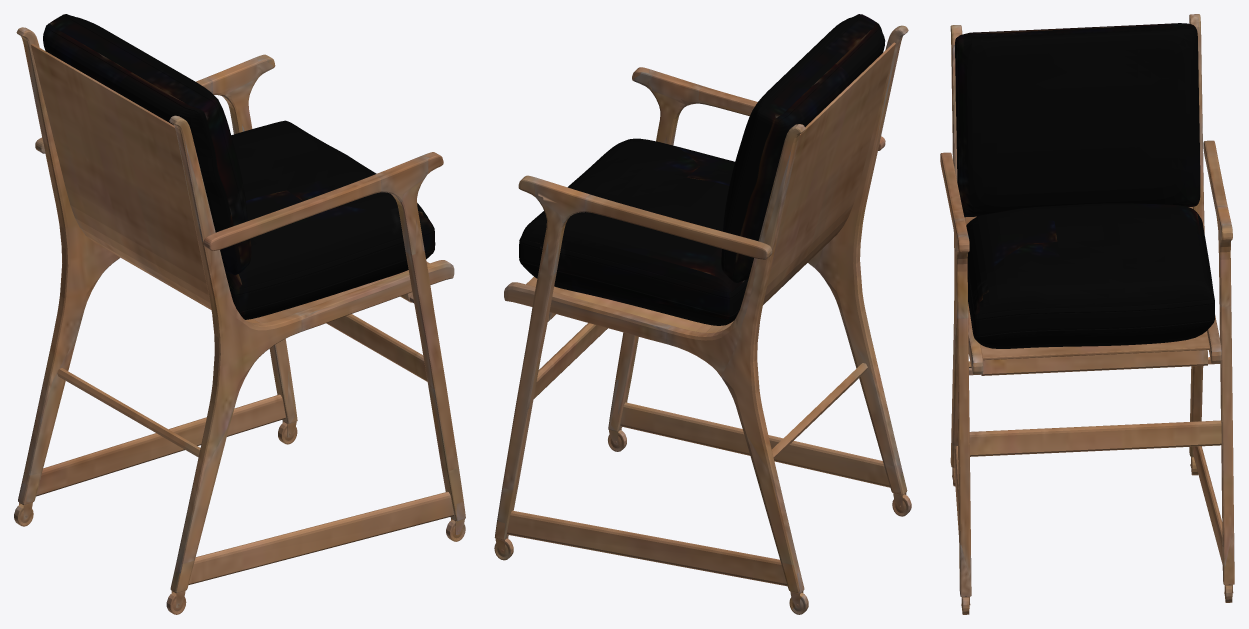
Rendered from chair_0.glb.
3 renders of one model, left to right at view 1: azimuth 30°, elevation 25°; view 2: azimuth 150°, elevation 25°; view 3: azimuth 270°, elevation 25°, orthographic. The views are drawn at different scales.
Parts seen in each view (by area): view 1: chair_0; view 2: chair_0; view 3: chair_0.
Boxes of the visible parts, bbox=[...] form: chair_0: bbox=[14, 14, 465, 614]; chair_0: bbox=[494, 14, 911, 614]; chair_0: bbox=[940, 14, 1234, 614].
Size of the model in its own units: 0.7207 by 1.06 by 0.6088.
1 material, 1 textured.
